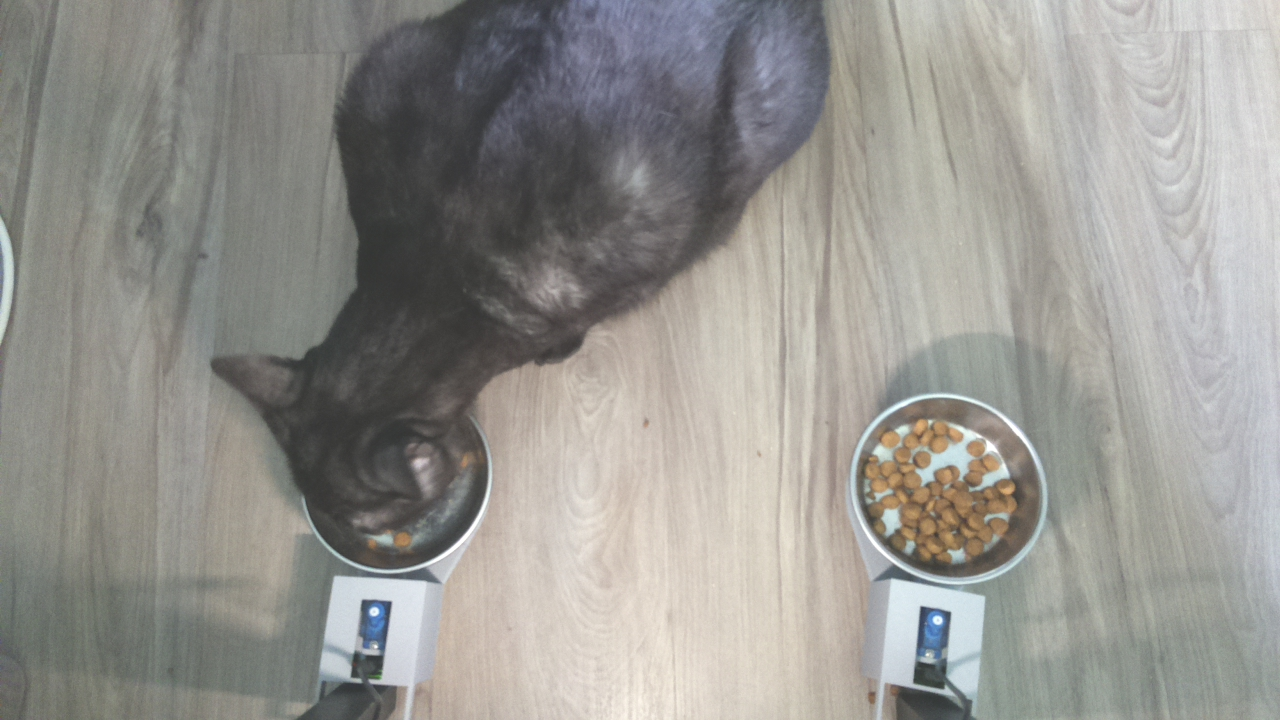open_bowl: (850, 391, 1050, 590)
saki_eating: (206, 253, 495, 580)
